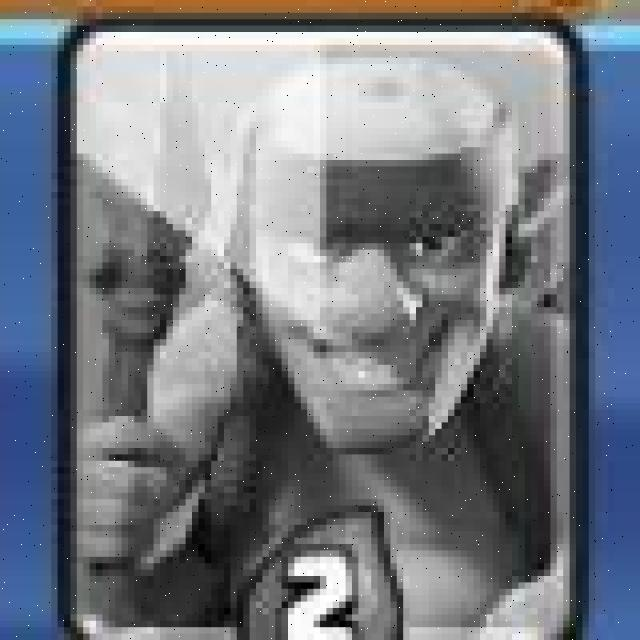Spear_Goblins: (56, 21, 583, 640)
